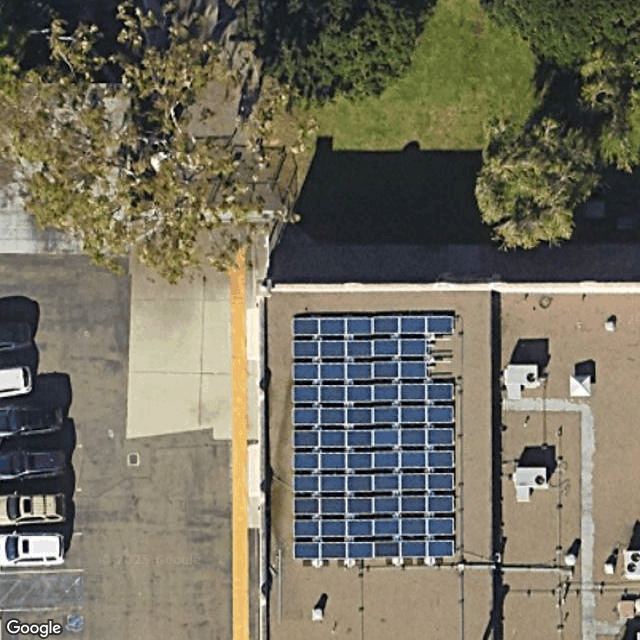palm: (471, 110, 602, 251)
